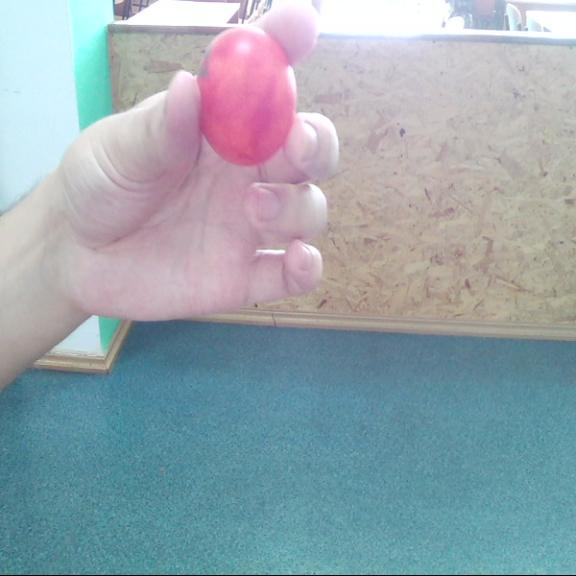ball: (192, 22, 301, 170)
